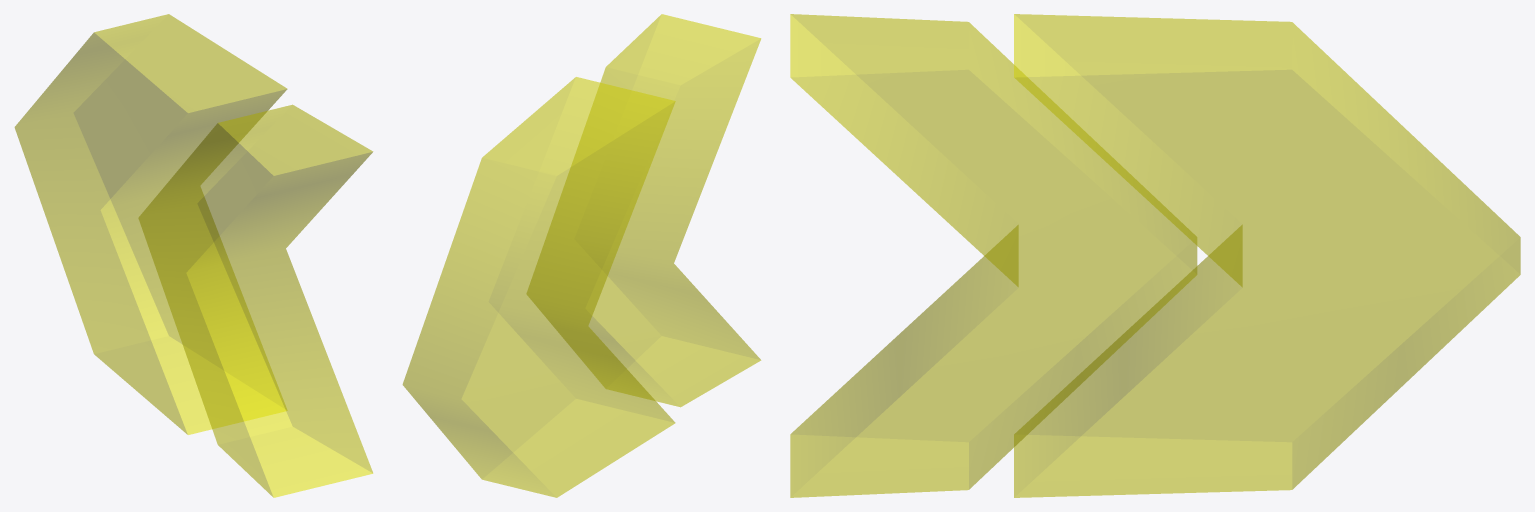
File: seta.fbx
The picture shows the model from 3 angles, left to right: view 1: azimuth 30°, elevation 25°; view 2: azimuth 150°, elevation 25°; view 3: azimuth 270°, elevation 25°; orthographic projection. The views are drawn at different scales.
Visible parts, largest first — view 1: seta; view 2: seta; view 3: seta.
Part boxes in pixels (x1=…): seta: x1=14, y1=14, x2=372, y2=497; seta: x1=402, y1=14, x2=760, y2=497; seta: x1=790, y1=14, x2=1520, y2=497.
Size of the model in its own units: 0.3783 by 1.17 by 1.84.
